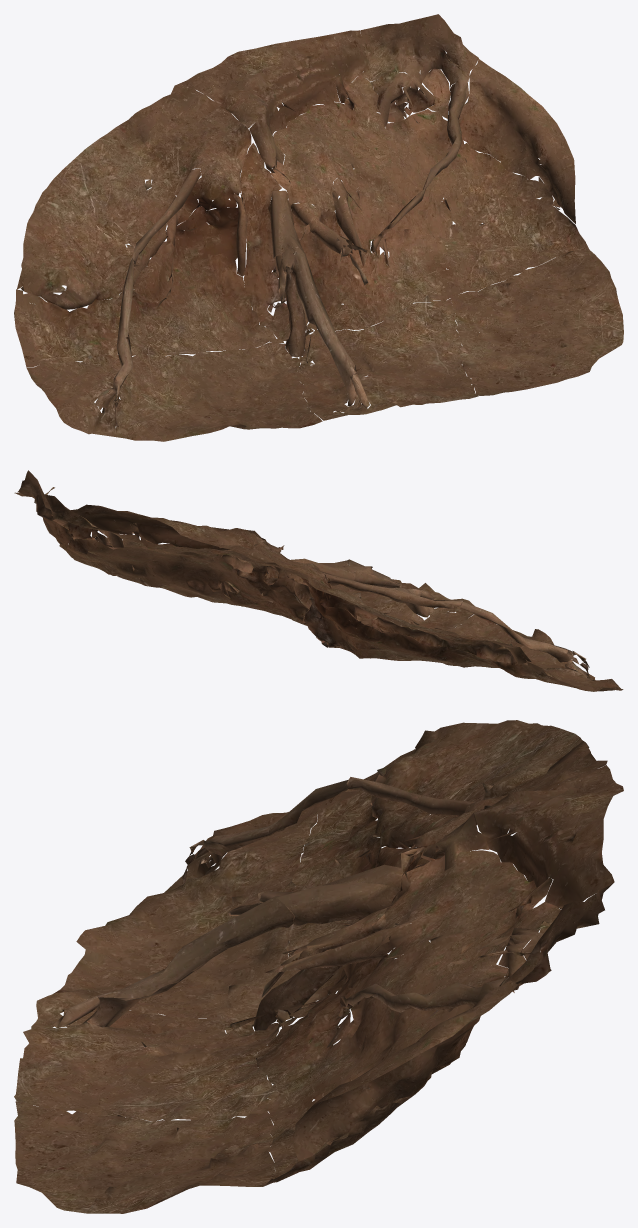
File: root_cluster_01.glb
3 views of the same model, one above another, from view 1: azimuth 30°, elevation 25°; view 2: azimuth 150°, elevation 25°; view 3: azimuth 270°, elevation 25° (orthographic). The views are drawn at different scales.
Visible parts, largest first — view 1: root_cluster_01; view 2: root_cluster_01; view 3: root_cluster_01.
Part boxes in pixels (box(x1,y1,x2,y2)): root_cluster_01: box(14, 14, 623, 441); root_cluster_01: box(14, 470, 623, 691); root_cluster_01: box(14, 720, 623, 1213).
Size of the model in its own units: 4.12 by 1.51 by 2.68.
Materials: 1 (1 with a texture image).
